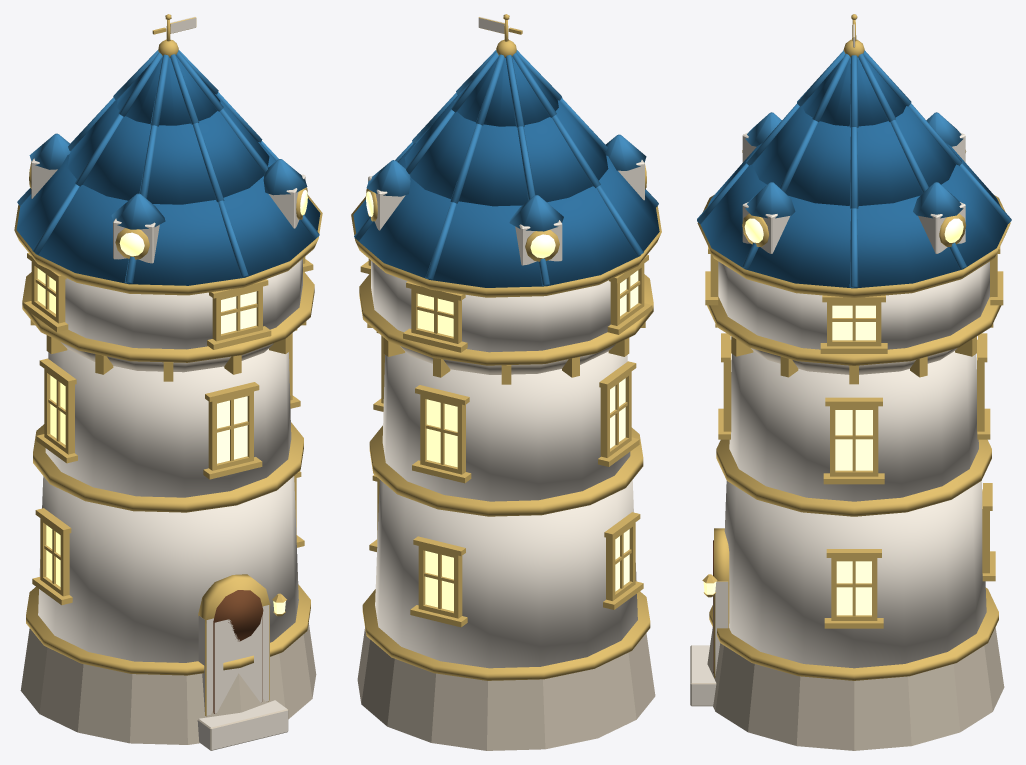
Rendered from house_cream_spire.glb.
The picture shows the model from 3 angles, left to right: view 1: azimuth 30°, elevation 25°; view 2: azimuth 150°, elevation 25°; view 3: azimuth 270°, elevation 25°; orthographic projection.
Parts seen in each view (by area): view 1: house_cream_spire; view 2: house_cream_spire; view 3: house_cream_spire.
Boxes of the visible parts, left/top/right/bottom form: house_cream_spire: left=14, top=14, right=322, bottom=750; house_cream_spire: left=351, top=14, right=661, bottom=750; house_cream_spire: left=690, top=14, right=1011, bottom=750.
Bounding box in the file's own units: 5.34 × 12.62 × 5.45.
